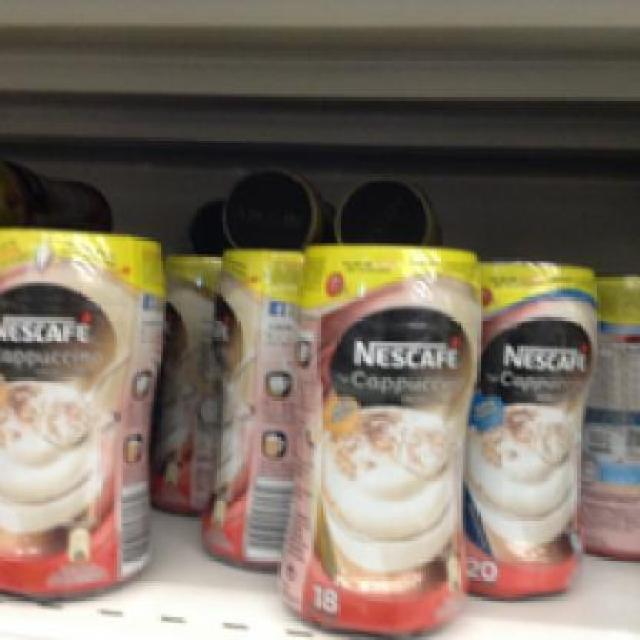Coffee: (277, 242, 480, 638), (0, 225, 166, 606), (457, 257, 597, 597)
